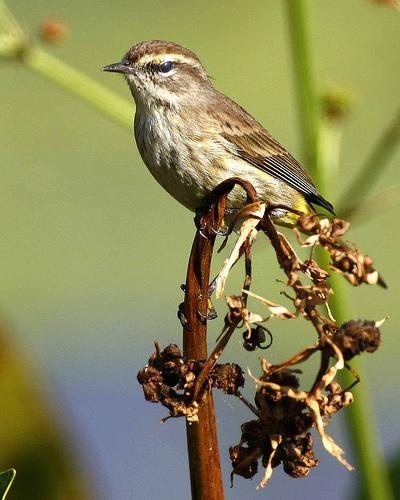bird: (100, 38, 340, 325)
